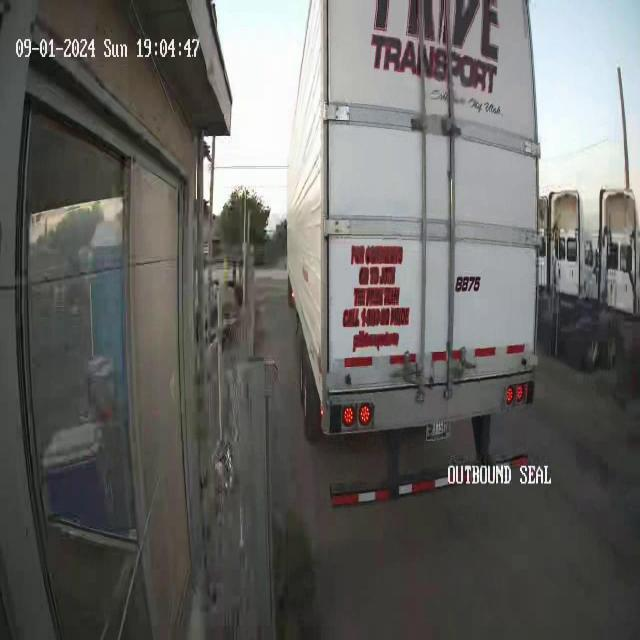TRUCK_OUT: (286, 0, 542, 442)
